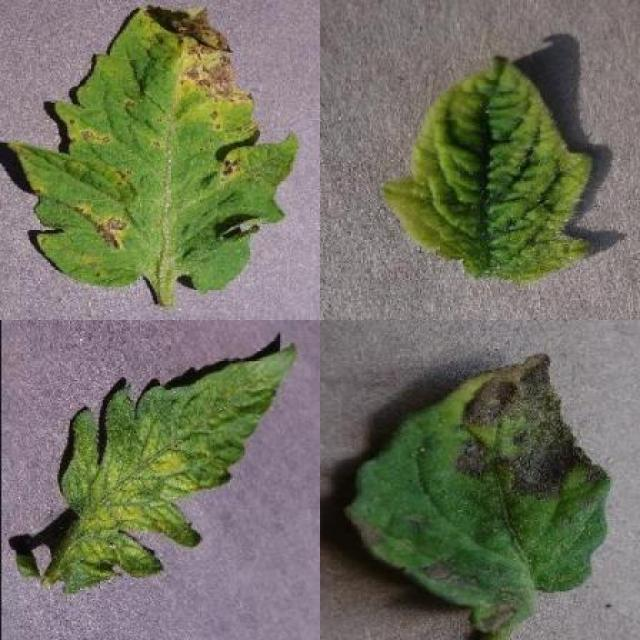Early Blight: (348, 350, 613, 640)
Mosaic Virus: (44, 340, 299, 597)
Septoria: (12, 3, 298, 290)
Yellow Leaf Curl Virus: (388, 55, 596, 285)
